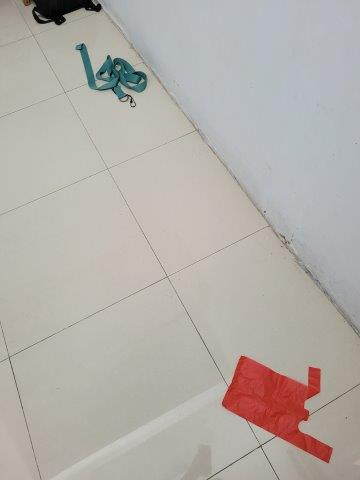plastik: (223, 356, 333, 465)
